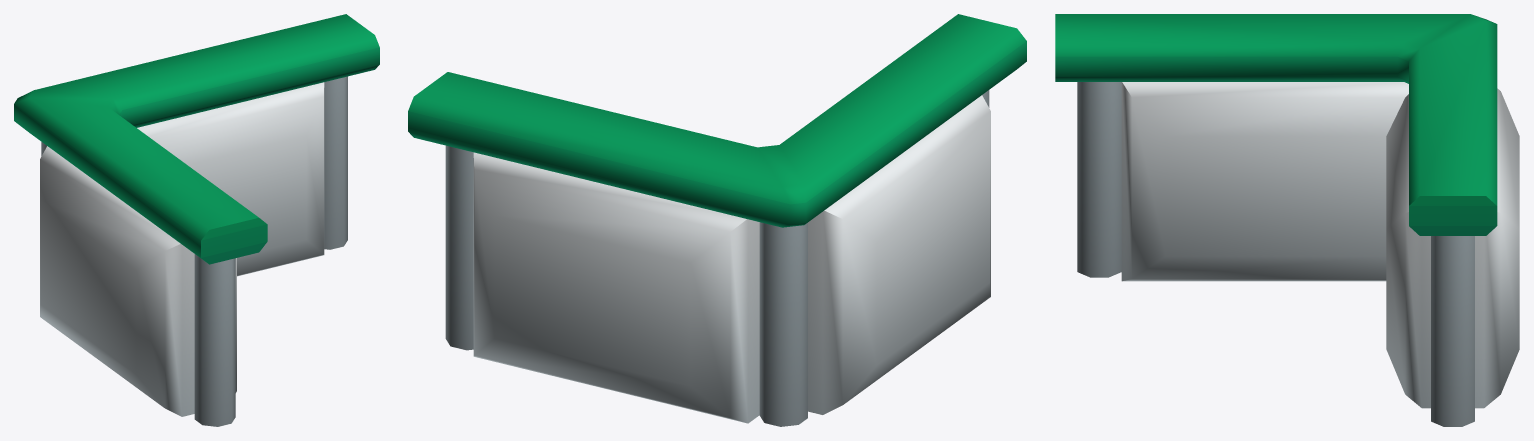
The model's file is railing_corner_padded_green.glb.
3 views of the same model, side by side, from view 1: azimuth 30°, elevation 25°; view 2: azimuth 150°, elevation 25°; view 3: azimuth 270°, elevation 25° (orthographic). The views are drawn at different scales.
Visible parts, largest first — view 1: railing_corner_padded_green; view 2: railing_corner_padded_green; view 3: railing_corner_padded_green.
Part boxes in pixels (box(x1,y1,x2,y2)): railing_corner_padded_green: box(14, 14, 379, 426); railing_corner_padded_green: box(408, 14, 1026, 426); railing_corner_padded_green: box(1055, 14, 1519, 426).
Bounding box in the file's own units: 2.1 × 1.2 × 2.1.
Materials: 1 (1 with a texture image).
